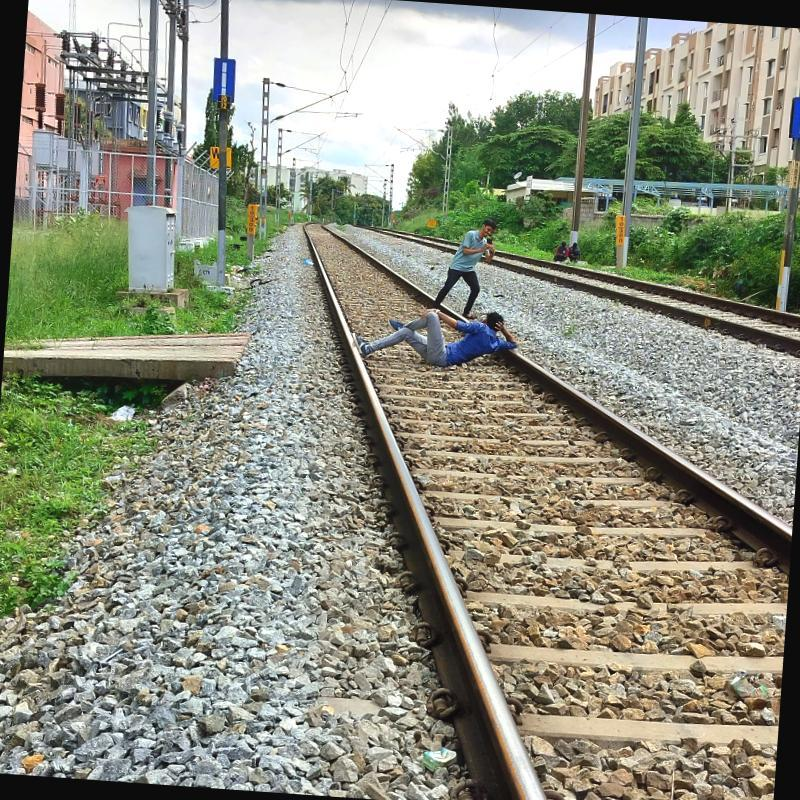sleeping: (348, 295, 536, 386)
